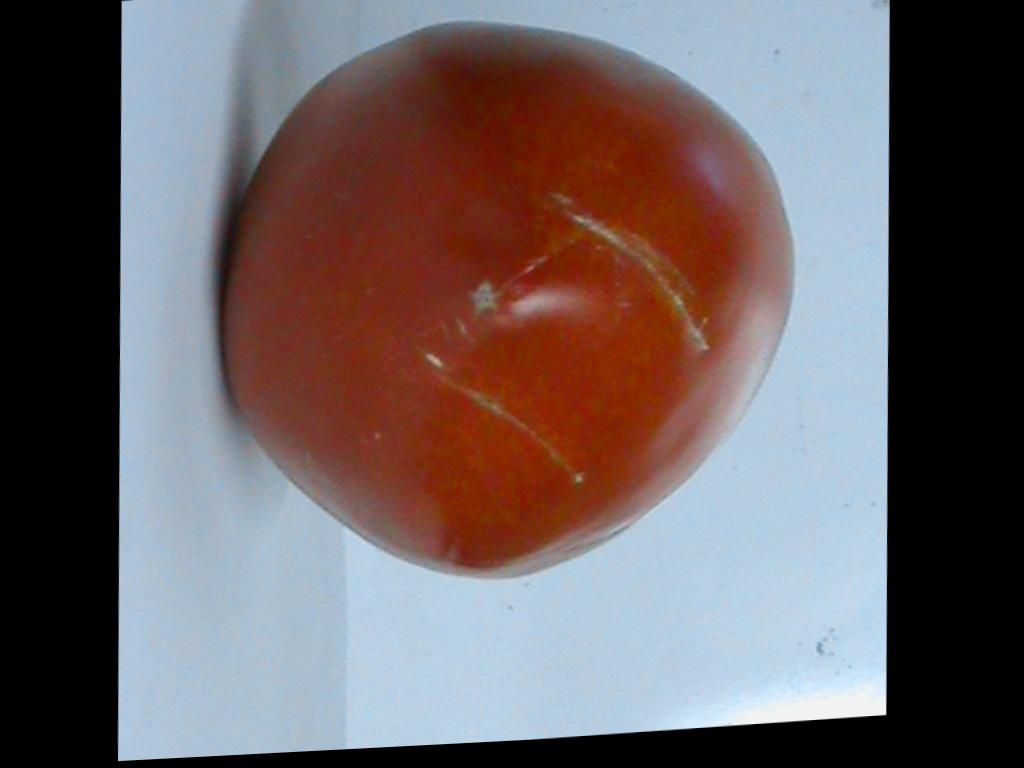surface_damage: (544, 193, 708, 351), (424, 350, 585, 482)
tomato: (225, 22, 792, 574)
